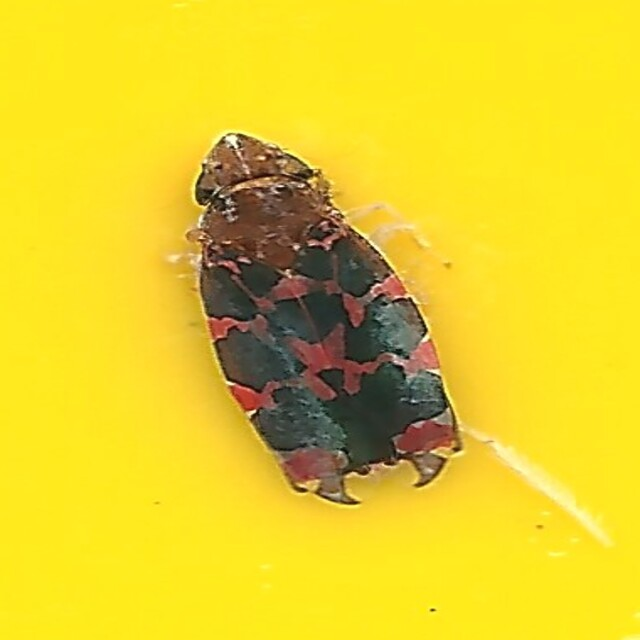Hemiptera: (168, 121, 472, 519)
